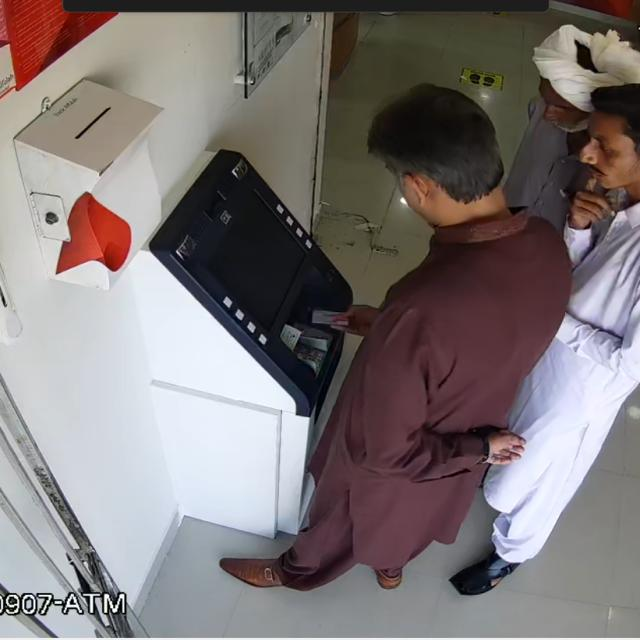atm-card: (307, 308, 358, 333)
